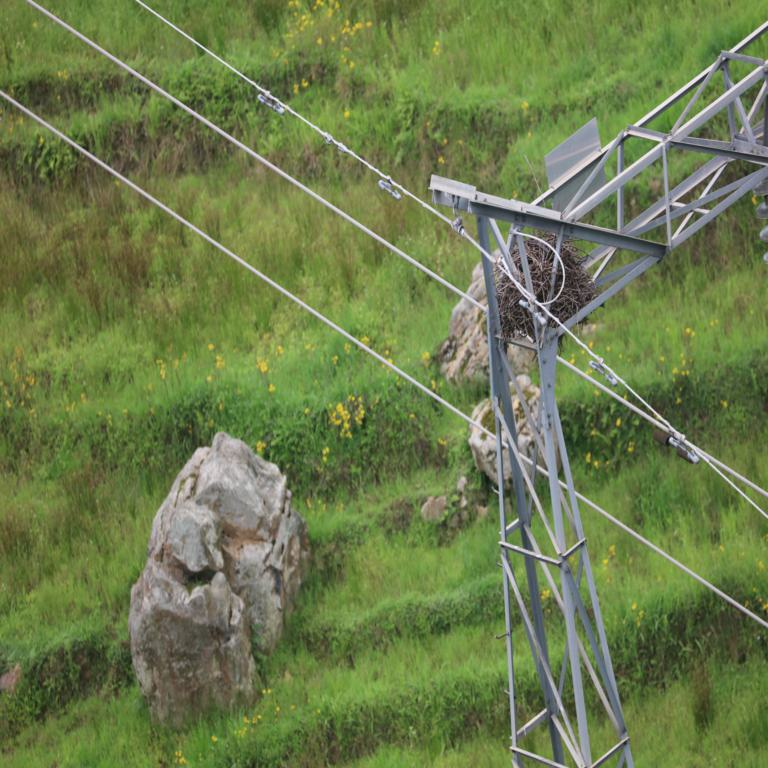nest: (502, 233, 595, 337)
